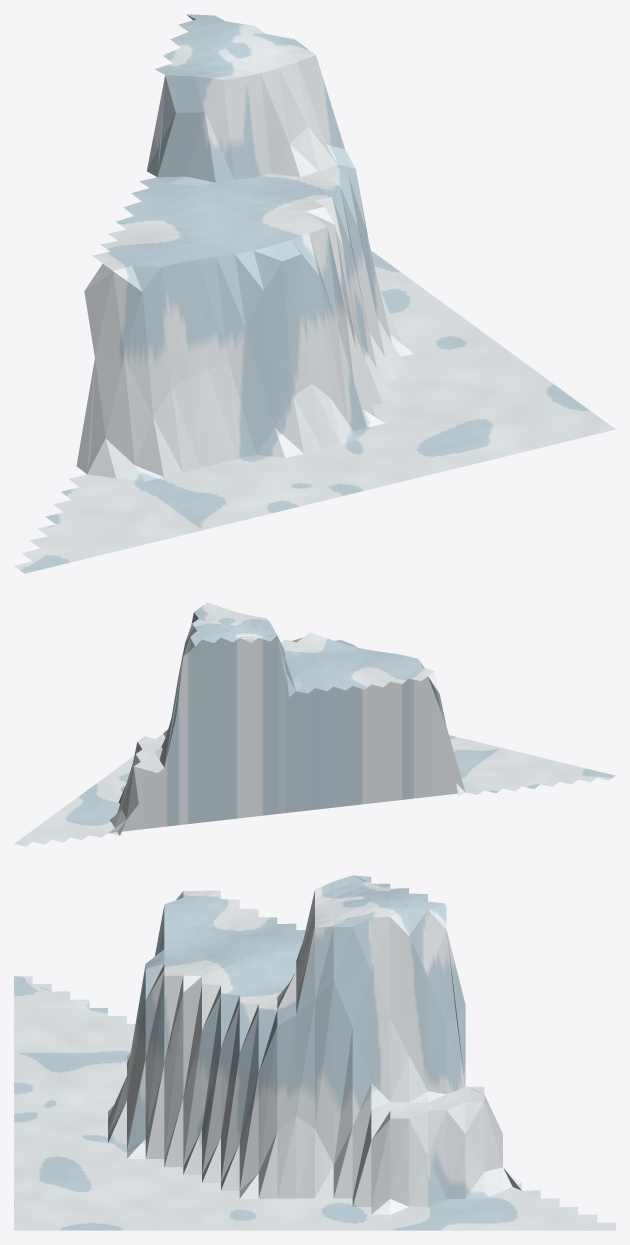
The model's file is Snow_Mountains_12_NE.obj.
3 renders of one model, top to bottom at view 1: azimuth 30°, elevation 25°; view 2: azimuth 150°, elevation 25°; view 3: azimuth 270°, elevation 25°, orthographic. The views are drawn at different scales.
Bounding box in the file's own units: 10 × 4.61 × 10.
Materials: 1 (1 with a texture image).
